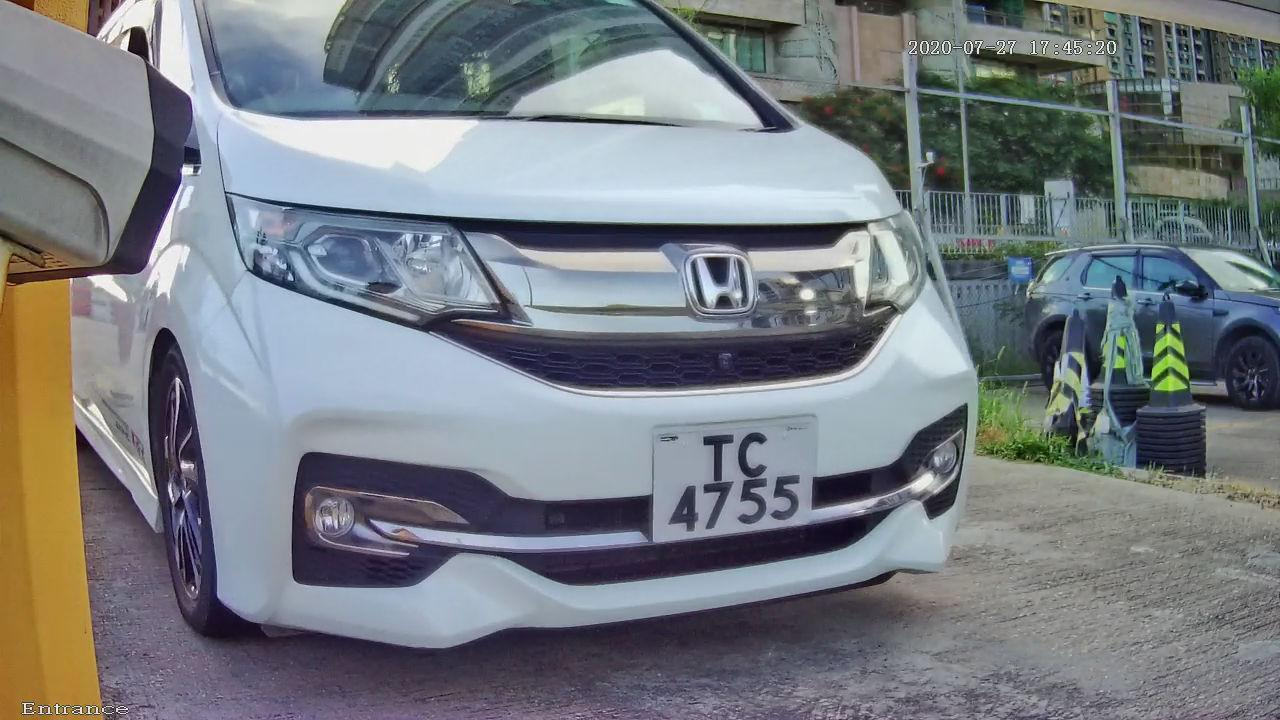privatecar: (52, 1, 1086, 692)
